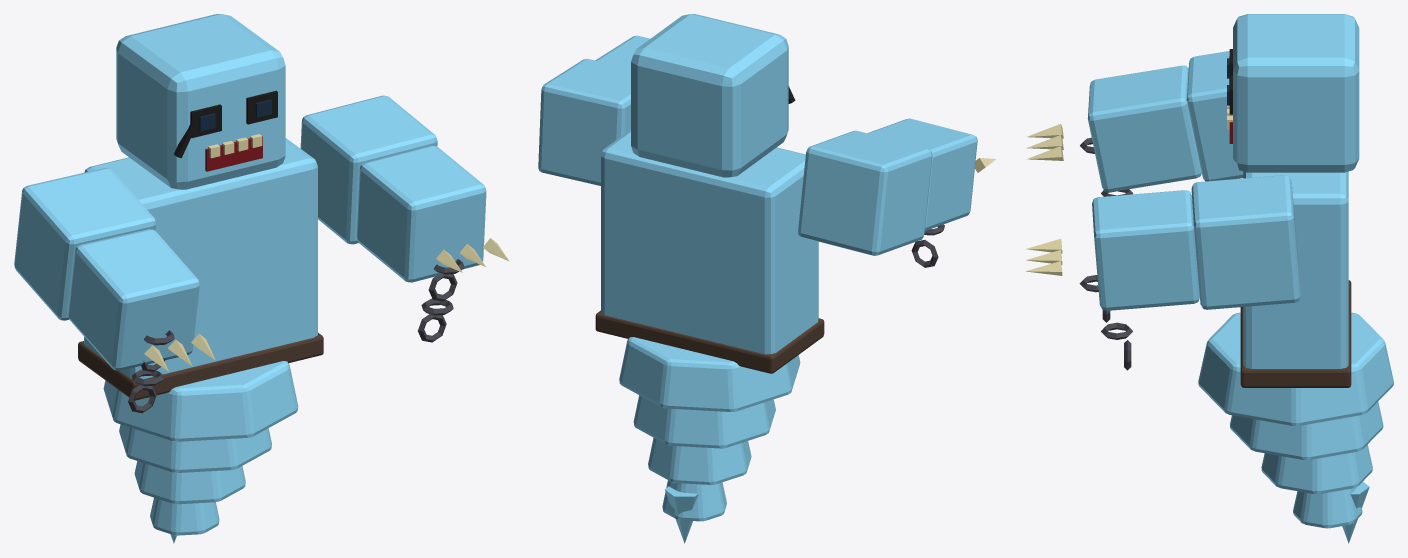
File: zombi_espectral.glb
3 renders of one model, left to right at view 1: azimuth 30°, elevation 25°; view 2: azimuth 150°, elevation 25°; view 3: azimuth 270°, elevation 25°, orthographic. The views are drawn at different scales.
Parts seen in each view (by area): view 1: Torso, LeftArm, RightArm, Head; view 2: Torso, Head, LeftArm, RightArm; view 3: Torso, RightArm, Head, LeftArm.
Boxes of the visible parts, x1,y1,x2,y2 form: Torso: (78, 138, 323, 543); LeftArm: (14, 168, 215, 413); RightArm: (300, 95, 509, 342); Head: (116, 14, 285, 189); Torso: (595, 129, 824, 543); Head: (631, 14, 795, 177); LeftArm: (798, 118, 996, 267); RightArm: (538, 35, 649, 185); Torso: (1198, 171, 1393, 543); RightArm: (1025, 175, 1300, 370); Head: (1227, 14, 1359, 172); LeftArm: (1026, 51, 1243, 196).
Bounding box in the file's own units: 4 × 5.32 × 3.5.
Materials: 1 (1 with a texture image).
